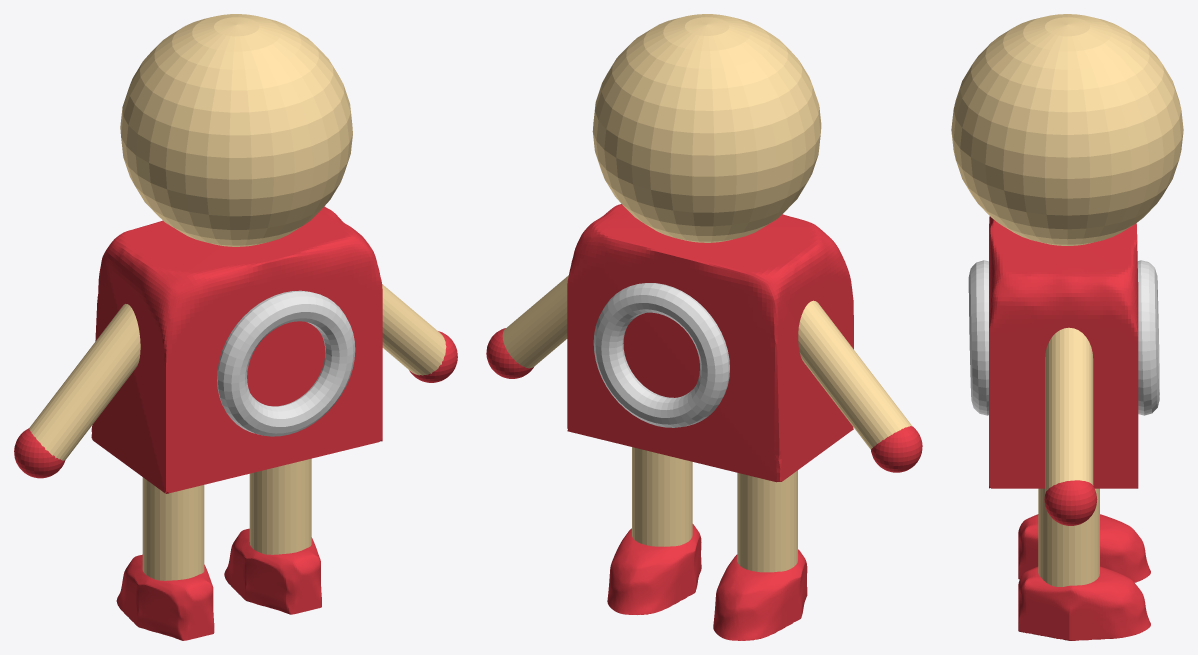
File: Red_player_final_final.fbx
3 renders of one model, left to right at view 1: azimuth 30°, elevation 25°; view 2: azimuth 150°, elevation 25°; view 3: azimuth 270°, elevation 25°, orthographic.
Visible parts, largest first — view 1: Cube, Sphere, Torus.001, Cylinder.003, Cylinder, Cylinder.021, Cylinder.020, Cylinder.001, Cylinder.002, Sphere.003, Sphere.002; view 2: Cube, Sphere, Torus, Cylinder.003, Cylinder.021, Cylinder.020, Cylinder, Cylinder.001, Cylinder.002, Sphere.003, Sphere.002; view 3: Sphere, Cube, Cylinder.020, Cylinder.002, Cylinder.001, Cylinder.021, Torus, Torus.001, Sphere.002.
Boxes of the visible parts, bbox=[...] form: Cube: bbox=[91, 206, 382, 493]; Sphere: bbox=[120, 14, 352, 246]; Torus.001: bbox=[217, 290, 355, 436]; Cylinder.003: bbox=[29, 304, 140, 460]; Cylinder: bbox=[142, 477, 204, 580]; Cylinder.021: bbox=[116, 554, 214, 640]; Cylinder.020: bbox=[224, 528, 321, 614]; Cylinder.001: bbox=[249, 458, 311, 554]; Cylinder.002: bbox=[382, 284, 446, 375]; Sphere.003: bbox=[14, 428, 65, 478]; Sphere.002: bbox=[409, 331, 457, 382]; Cube: bbox=[567, 204, 853, 482]; Sphere: bbox=[592, 14, 821, 242]; Torus: bbox=[593, 283, 729, 427]; Cylinder.003: bbox=[798, 300, 911, 449]; Cylinder.021: bbox=[713, 549, 807, 640]; Cylinder.020: bbox=[607, 524, 701, 614]; Cylinder: bbox=[737, 470, 797, 572]; Cylinder.001: bbox=[632, 447, 692, 546]; Cylinder.002: bbox=[502, 275, 568, 368]; Sphere.003: bbox=[871, 426, 922, 472]; Sphere.002: bbox=[486, 328, 533, 378]; Sphere: bbox=[951, 14, 1183, 245]; Cube: bbox=[989, 216, 1138, 488]; Cylinder.020: bbox=[1018, 566, 1150, 640]; Cylinder.002: bbox=[1045, 327, 1093, 493]; Cylinder.001: bbox=[1038, 488, 1099, 586]; Cylinder.021: bbox=[1018, 514, 1150, 582]; Torus: bbox=[1137, 260, 1159, 415]; Torus.001: bbox=[968, 260, 988, 415]; Sphere.002: bbox=[1044, 480, 1097, 525].
Size of the model in its own units: 519 by 659 by 240.
